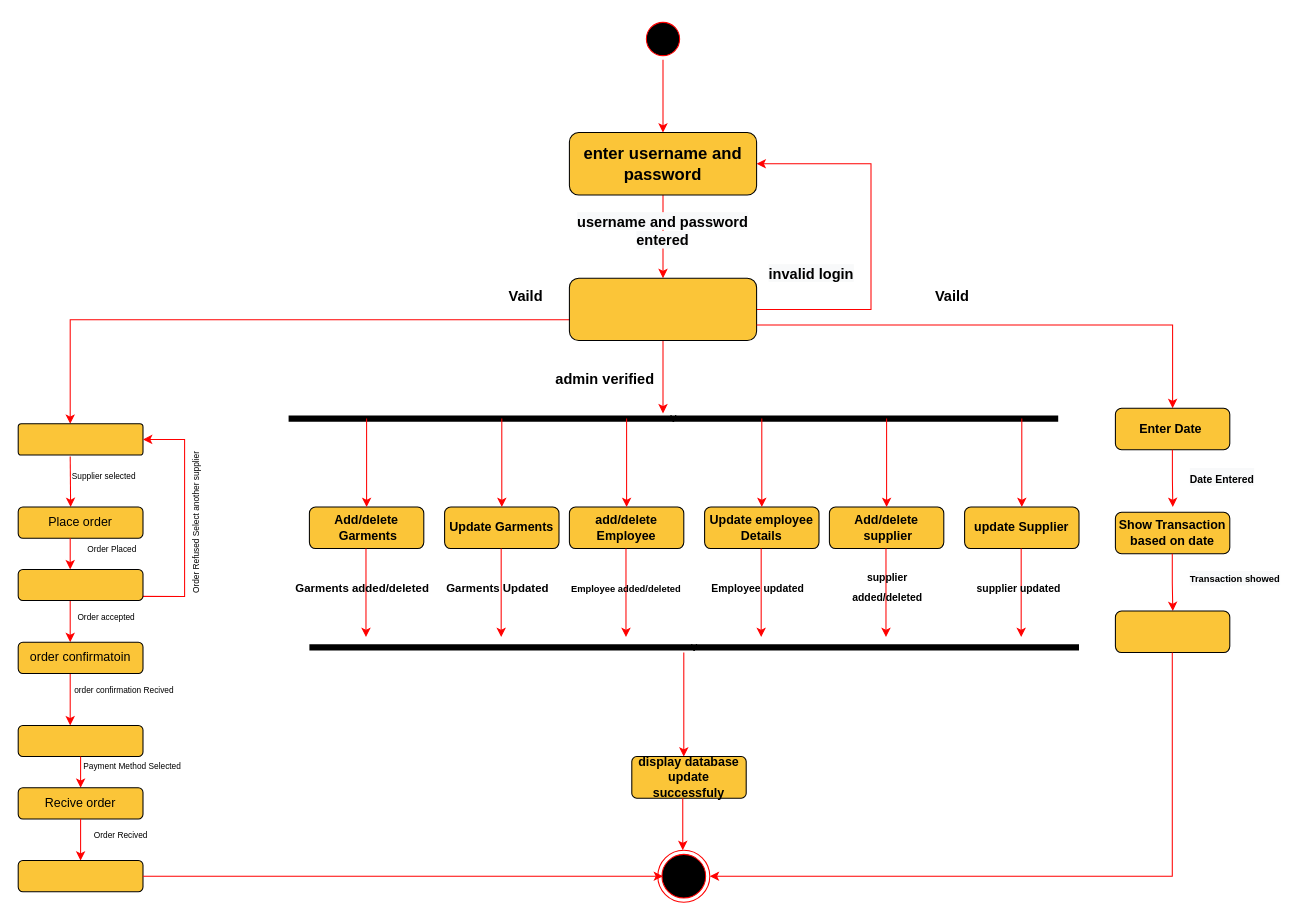
This 1300x920 diagram has some shape labels left out. Each missing label, with the centre of its shape:
Accept order: (80,584)
Payment: (80,740)
Print order details: (80,876)
Print Report: (1172,631)
Select supplier: (80,439)
Verify admin: (662,309)
